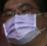with_mask: (2, 1, 47, 46)
